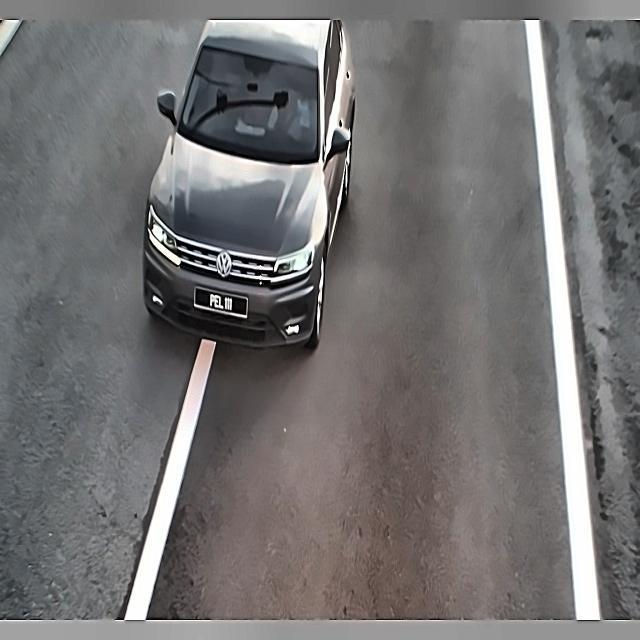car: (189, 278, 252, 325)
